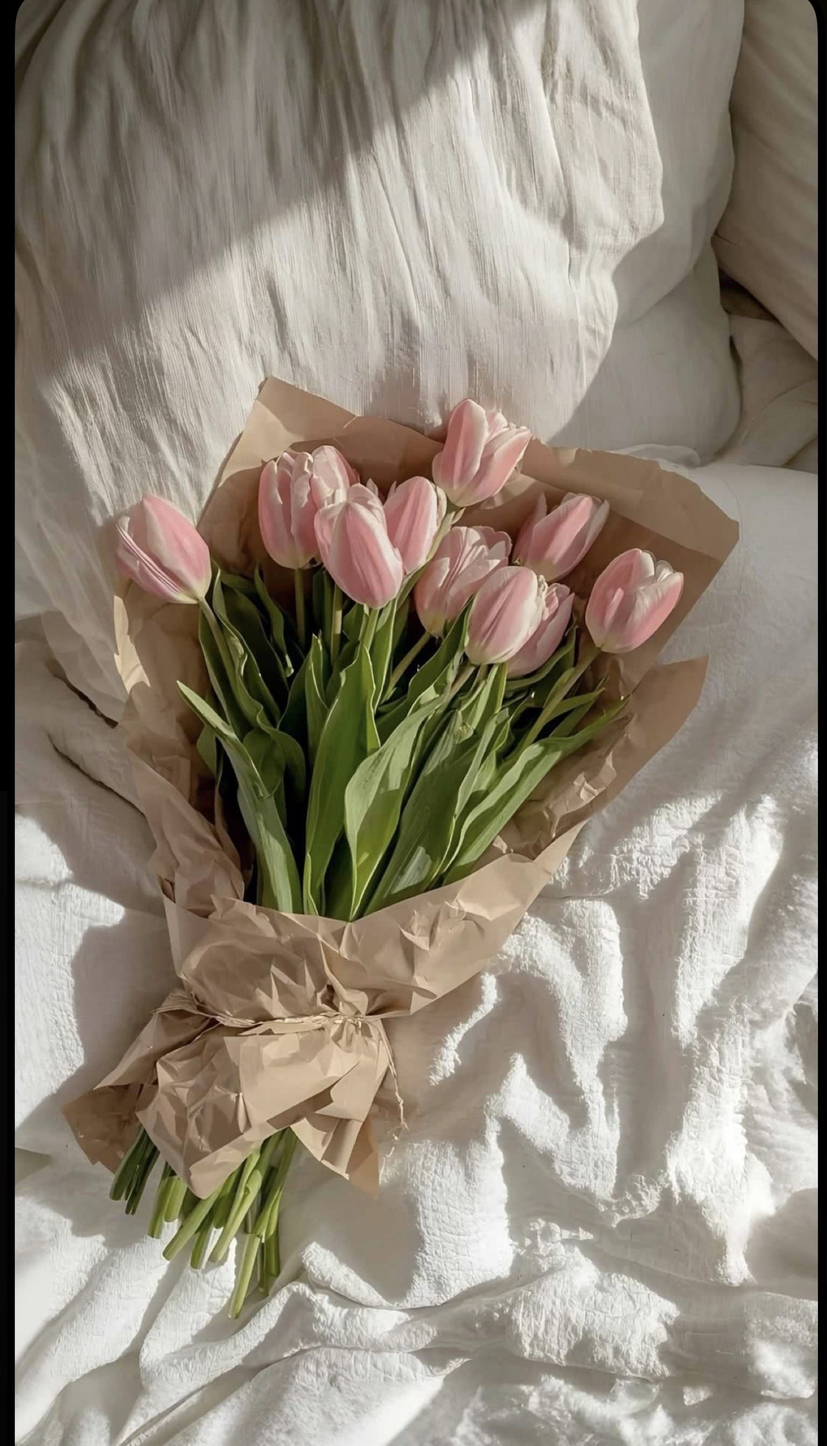tulip: (254, 440, 354, 571), (407, 523, 514, 644), (574, 546, 686, 661), (108, 489, 214, 607), (310, 481, 406, 610), (448, 561, 550, 677), (429, 395, 531, 510), (514, 490, 613, 582), (505, 579, 576, 686), (379, 473, 446, 583)
